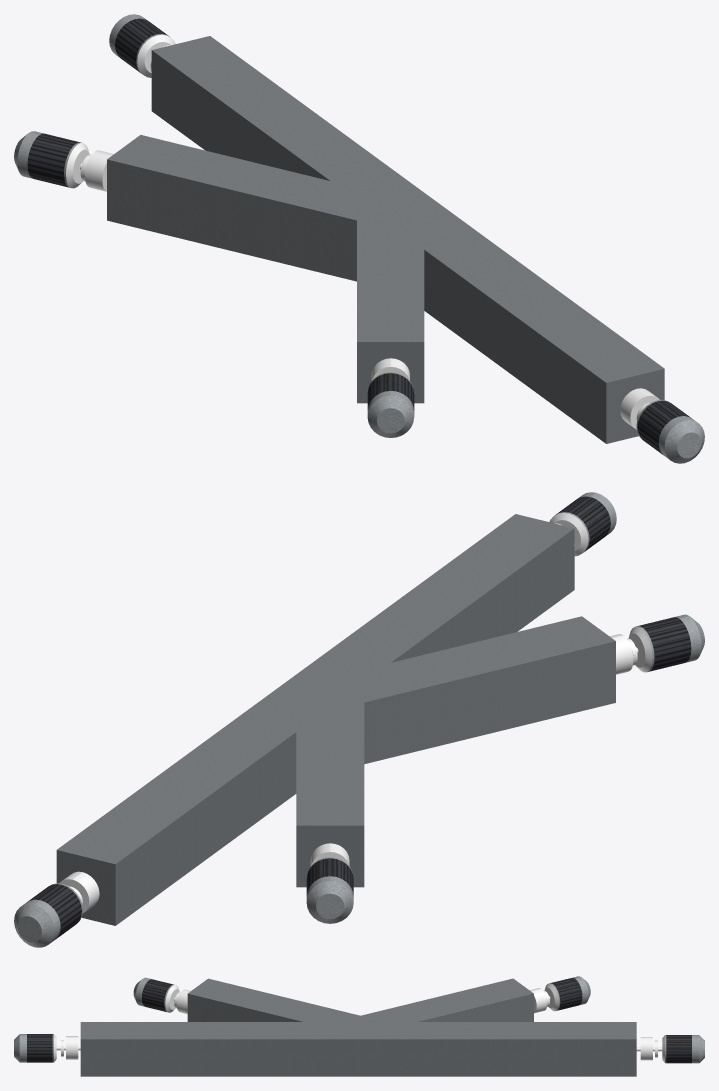
Rendered from 输送管聚.glb.
3 views of the same model, one above another, from view 1: azimuth 30°, elevation 25°; view 2: azimuth 150°, elevation 25°; view 3: azimuth 270°, elevation 25° (orthographic). The views are drawn at different scales.
Bounding box in the file's own units: 2.08 × 0.5 × 8.38.
Materials: 4 (3 with a texture image).
